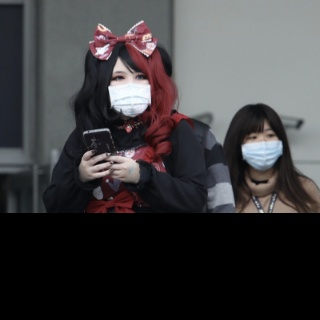with_mask: (107, 68, 153, 118), (239, 127, 283, 173)
